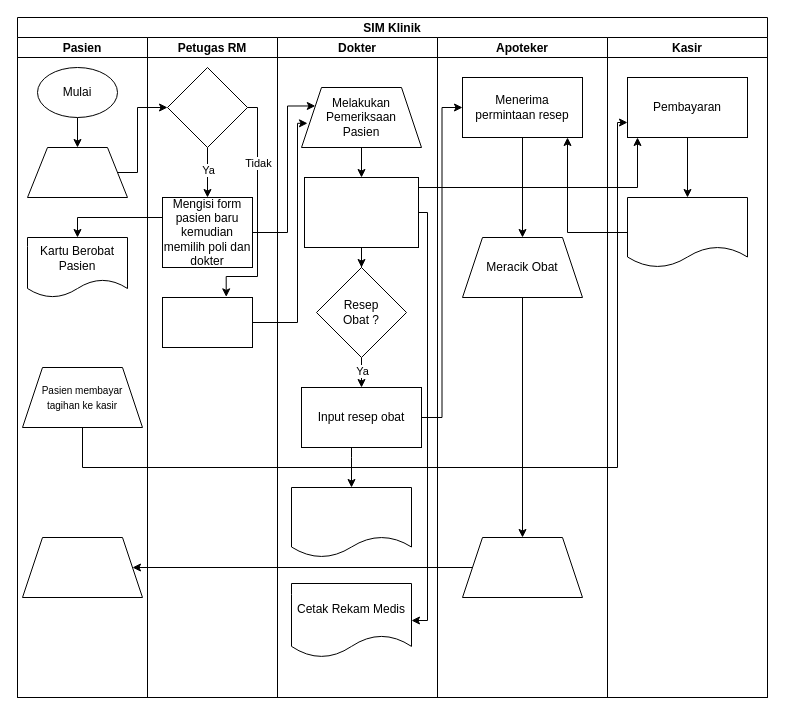
The diagram is 785 pixels wide and 715 high, and some of its shapes have lost their labels. Each missing label, with the centre of its shape:
Cetak bukti pembayaran: pixel 687 232
Cetak Resep Obat: pixel 351 522
Datang ke Bag. Registrasi: pixel 77 172
Diberikan pasien: pixel 522 567
Memilih poli dan dokter: pixel 207 322
Menginput pemeriksaan awal, diagnosa dan terapi pasien: pixel 361 212
Pasien Baru ?: pixel 207 107
Pasien pulang membawa obat: pixel 82 567
